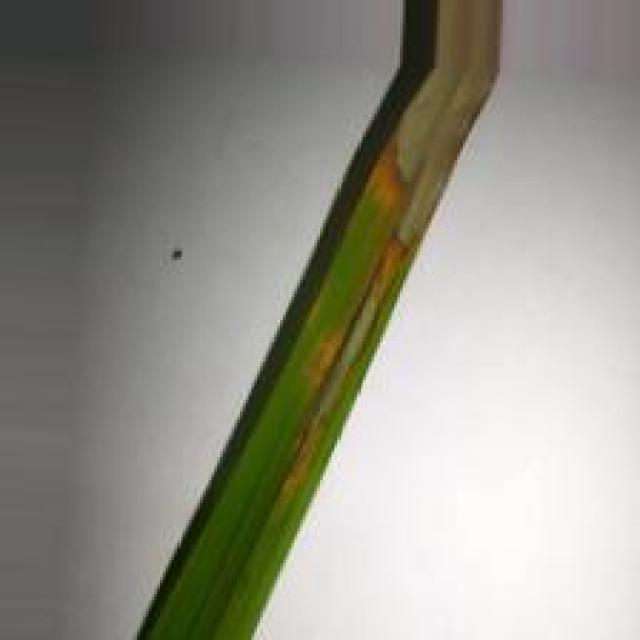Leaf_Scald: (276, 1, 503, 495)
